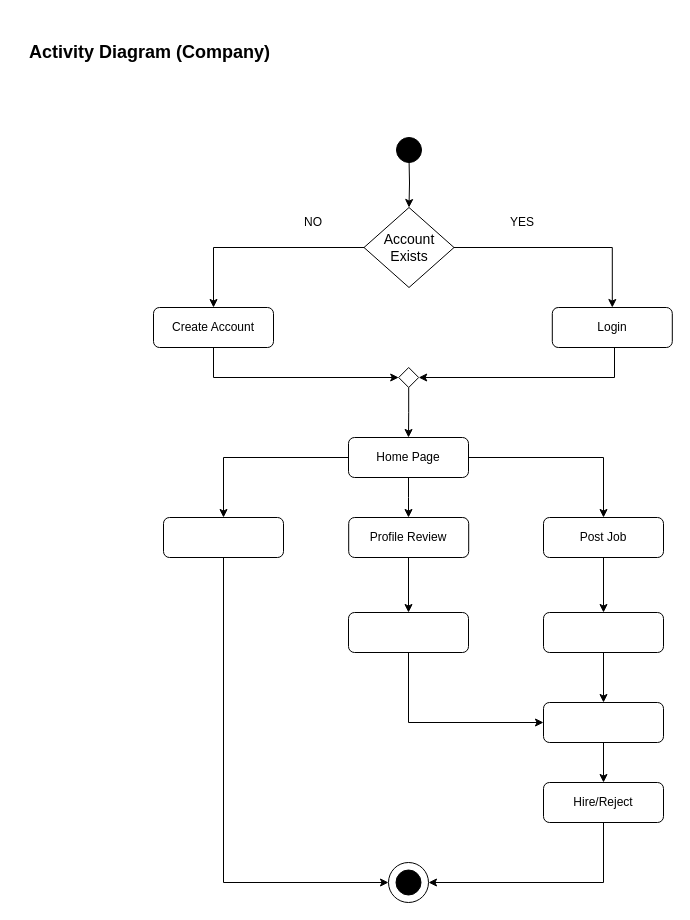
Image size: 690x920. Some labels were removed from this diagram. The shapes that lost their labels are listed below. From the top down, each one's box as (x1, y1, x2, y2) in pixels, then its label:
(162, 516, 284, 558): Update/Edit Profile
(348, 612, 468, 652): Sort based on skills
(542, 612, 664, 652): Send Notification on Job Posting
(542, 702, 664, 742): Review Applications
